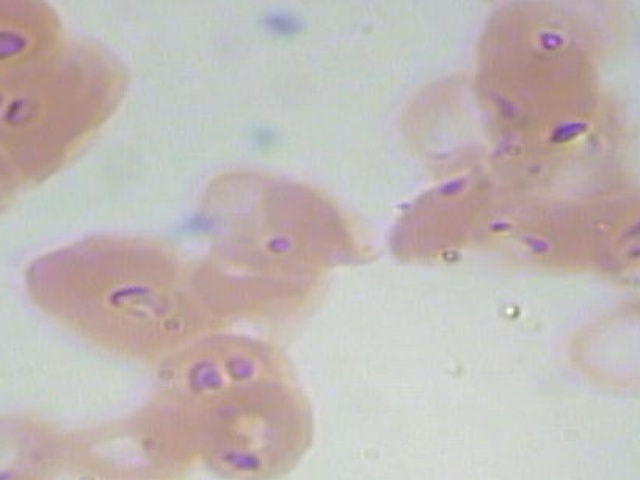Platelets: (245, 0, 321, 46)
RBC: (185, 160, 371, 277), (14, 226, 200, 342), (0, 30, 129, 144), (182, 380, 324, 480), (469, 0, 601, 106), (55, 402, 203, 480), (562, 293, 640, 402), (0, 402, 70, 480), (0, 118, 41, 234), (0, 0, 57, 75), (0, 25, 2, 139)
WBC: (634, 0, 640, 134)
